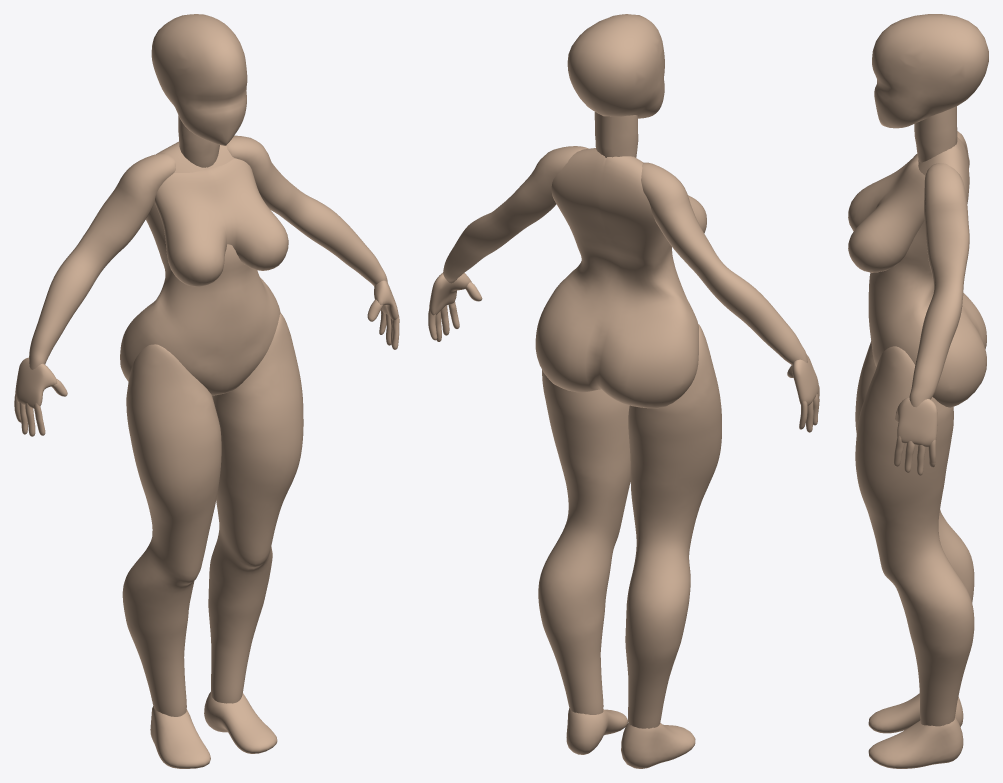
Rendered from curvy-medium.glb.
The picture shows the model from 3 angles, left to right: view 1: azimuth 30°, elevation 25°; view 2: azimuth 150°, elevation 25°; view 3: azimuth 270°, elevation 25°; orthographic projection.
Parts seen in each view (by area): view 1: FEMALE BODY TYPE 4_FEMALE BODY TYPE 4_0; view 2: FEMALE BODY TYPE 4_FEMALE BODY TYPE 4_0; view 3: FEMALE BODY TYPE 4_FEMALE BODY TYPE 4_0.
Boxes of the visible parts, x1,y1,x2,y2 form: FEMALE BODY TYPE 4_FEMALE BODY TYPE 4_0: [14, 14, 399, 768]; FEMALE BODY TYPE 4_FEMALE BODY TYPE 4_0: [428, 14, 819, 768]; FEMALE BODY TYPE 4_FEMALE BODY TYPE 4_0: [848, 14, 988, 768].
Bounding box in the file's own units: 0.8975 × 1.66 × 0.29.
